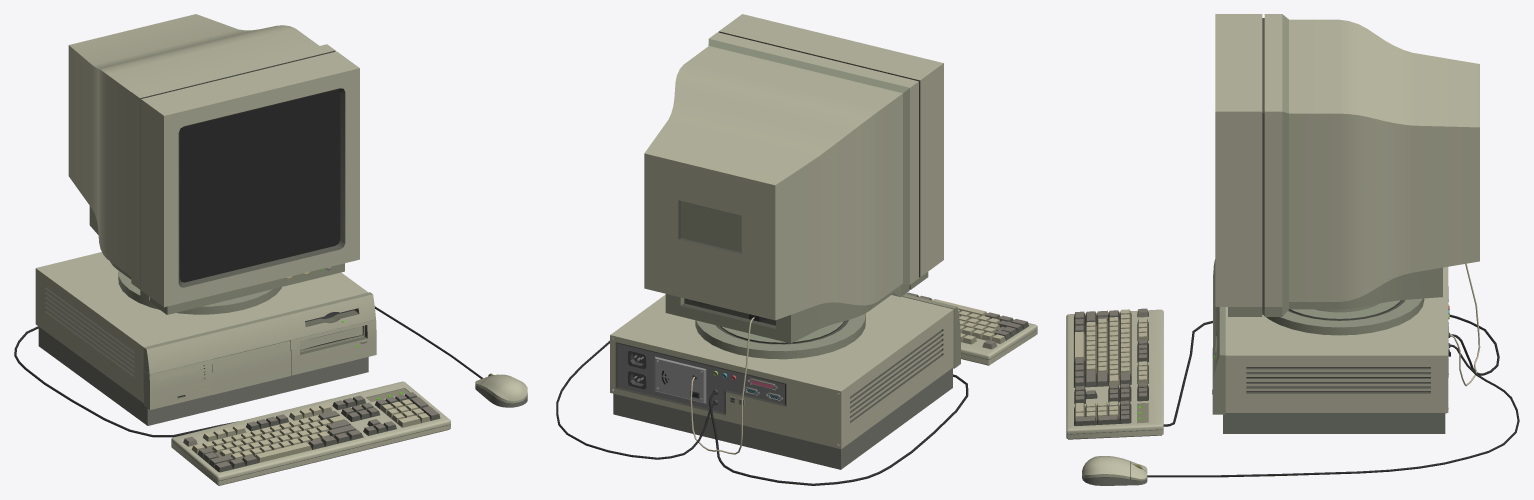
The model's file is computer.fbx.
3 renders of one model, left to right at view 1: azimuth 30°, elevation 25°; view 2: azimuth 150°, elevation 25°; view 3: azimuth 270°, elevation 25°, orthographic. The views are drawn at different scales.
Visible parts, largest first — view 1: Cube.146, Cube.124, Cube, Cube.111, Cube.002, Cube.113, Cube.114, Cube.115, Circle, Cube.126, Cube.007, Cube.175 (+6 smaller); view 2: Cube.146, Cube, Circle, Cube.157, Cube.002, Plane.005, Plane, Cube.132, Plane.004; view 3: Cube.146, Cube, Cube.002, Circle, Cube.126, Plane, Cube.111, Plane.005, Cube.007, Cube.004, Cube.005, Cube.006 (+1 smaller).
Boxes of the visible parts, bbox=[...] form: Cube.146: bbox=[68, 14, 359, 314]; Cube.124: bbox=[179, 90, 340, 282]; Cube: bbox=[35, 252, 368, 425]; Cube.111: bbox=[143, 292, 375, 374]; Cube.002: bbox=[171, 381, 450, 485]; Cube.113: bbox=[212, 340, 290, 394]; Cube.114: bbox=[143, 359, 212, 409]; Cube.115: bbox=[290, 319, 376, 375]; Circle: bbox=[118, 270, 281, 314]; Cube.126: bbox=[475, 374, 527, 407]; Cube.007: bbox=[191, 415, 320, 453]; Cube.175: bbox=[167, 285, 255, 314]; Cube.146: bbox=[644, 14, 943, 343]; Cube: bbox=[610, 294, 953, 469]; Circle: bbox=[695, 313, 865, 359]; Cube.157: bbox=[654, 356, 706, 403]; Cube.002: bbox=[906, 293, 1037, 365]; Plane.005: bbox=[709, 374, 968, 485]; Plane: bbox=[556, 340, 715, 459]; Cube.132: bbox=[628, 350, 646, 389]; Plane.004: bbox=[690, 317, 754, 454]; Cube.146: bbox=[1215, 14, 1479, 316]; Cube: bbox=[1223, 267, 1448, 433]; Cube.002: bbox=[1066, 309, 1163, 439]; Circle: bbox=[1262, 298, 1424, 335]; Cube.126: bbox=[1082, 456, 1147, 485]; Plane: bbox=[1147, 344, 1519, 477]; Cube.111: bbox=[1213, 259, 1225, 378]; Plane.005: bbox=[1163, 314, 1499, 426]; Cube.007: bbox=[1120, 309, 1131, 376]; Cube.004: bbox=[1108, 317, 1119, 378]; Cube.005: bbox=[1097, 318, 1108, 375]; Cube.006: bbox=[1085, 321, 1096, 373].
Size of the model in its own units: 764 by 652 by 838.
